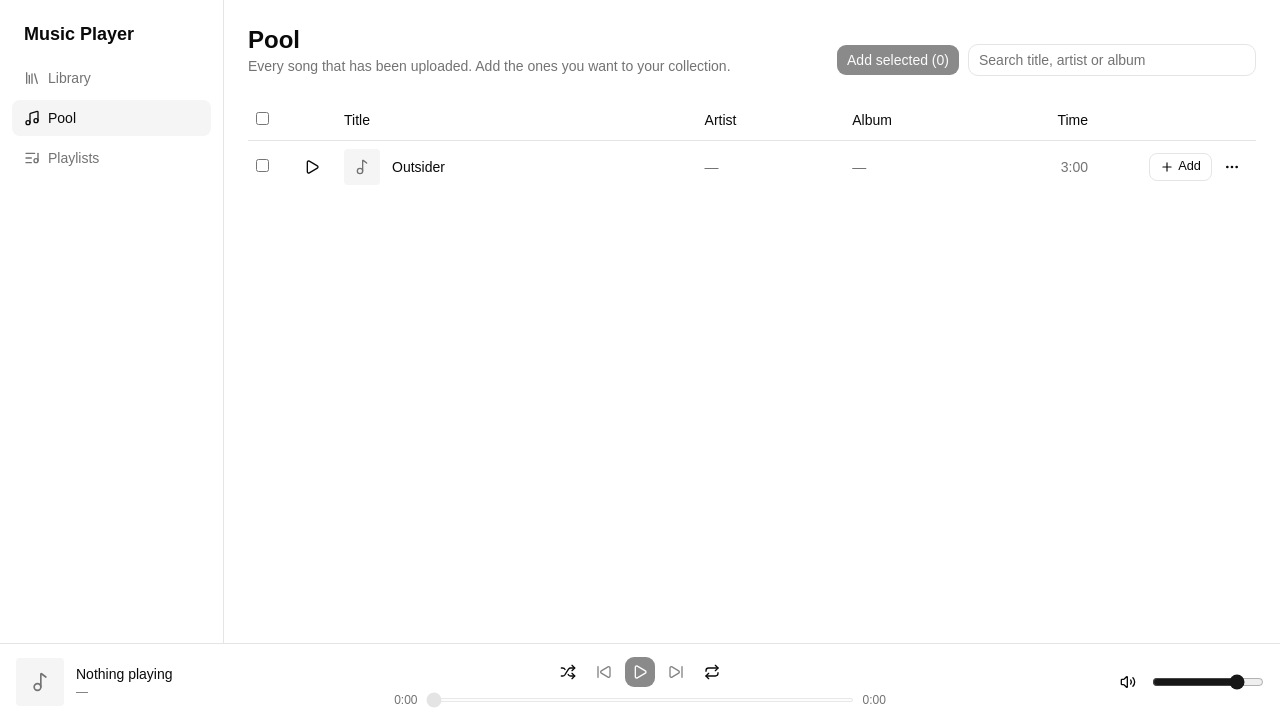
Test: Pool › F-LB-09 rolls back when the add fails
Click the button with aria-label "Add Outsider to collection" at (1181, 166), box left=1149, top=152, right=1212, bottom=180
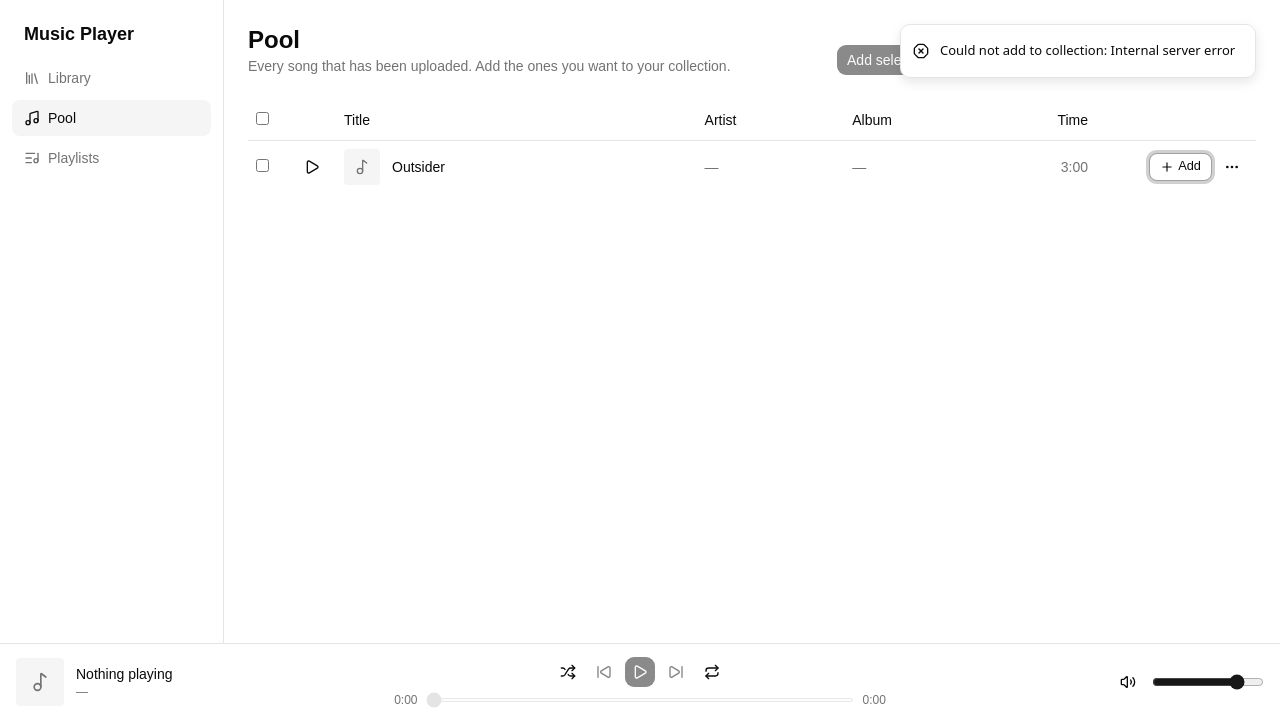
Result: the text "Could not add to collection: Internal server error" is shown at left=940, top=41, right=1235, bottom=60
